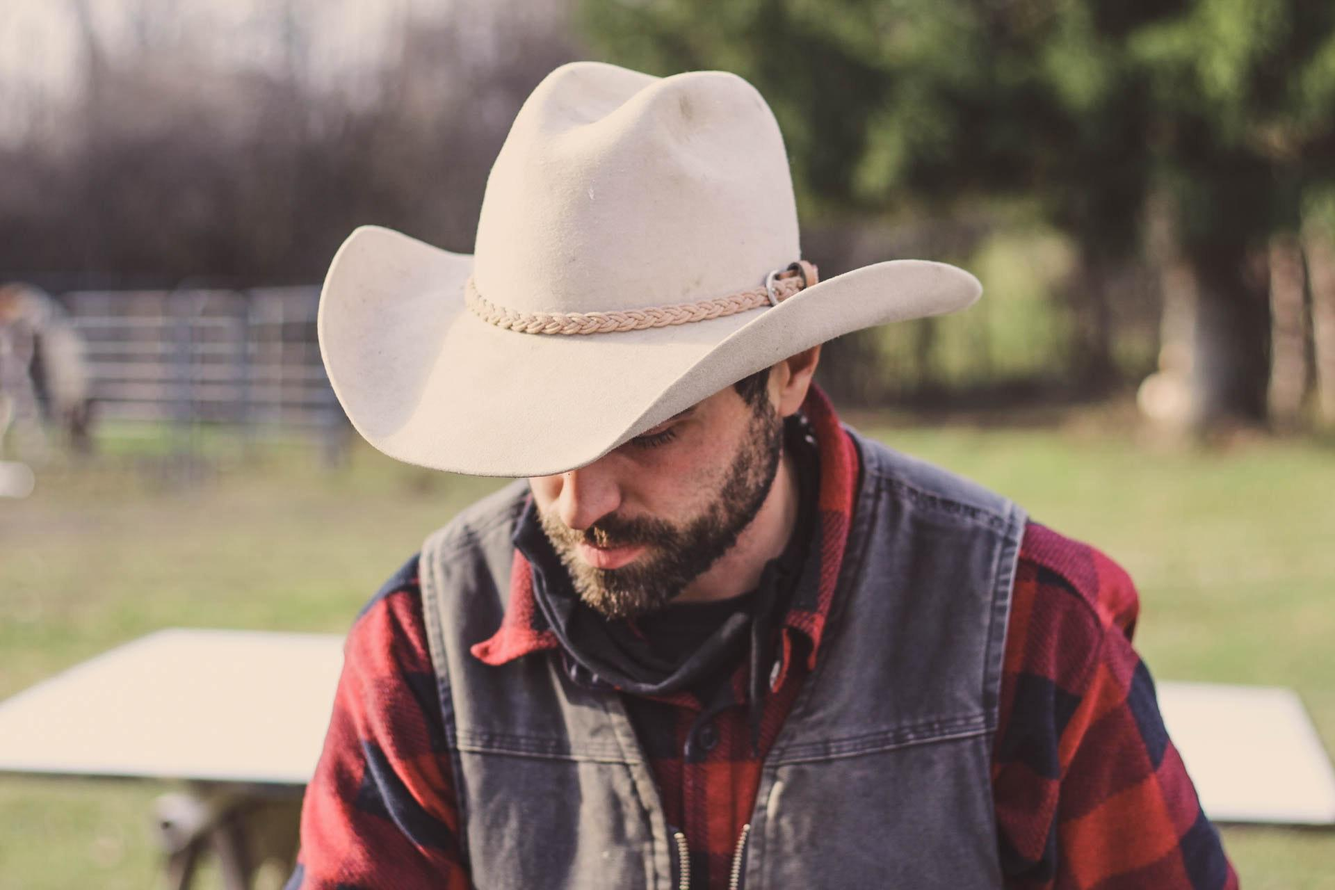cap: (287, 60, 999, 485)
